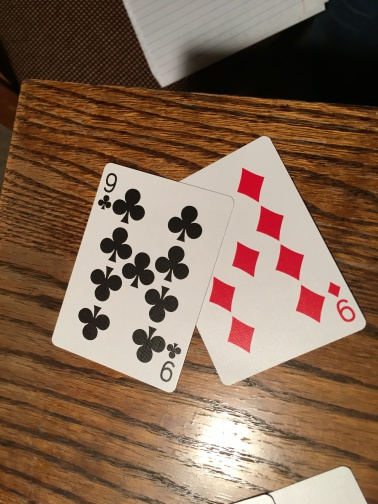nine: (176, 135, 368, 383), (49, 162, 233, 393)
